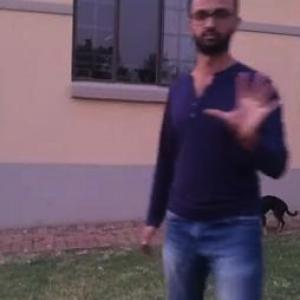follow_hand: (201, 66, 287, 144)
